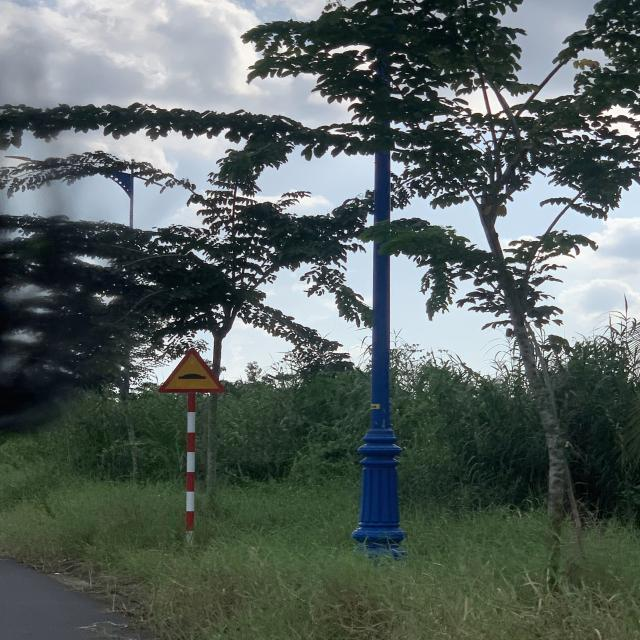Duong_Cong_Ben_Phai: (157, 347, 225, 393)
